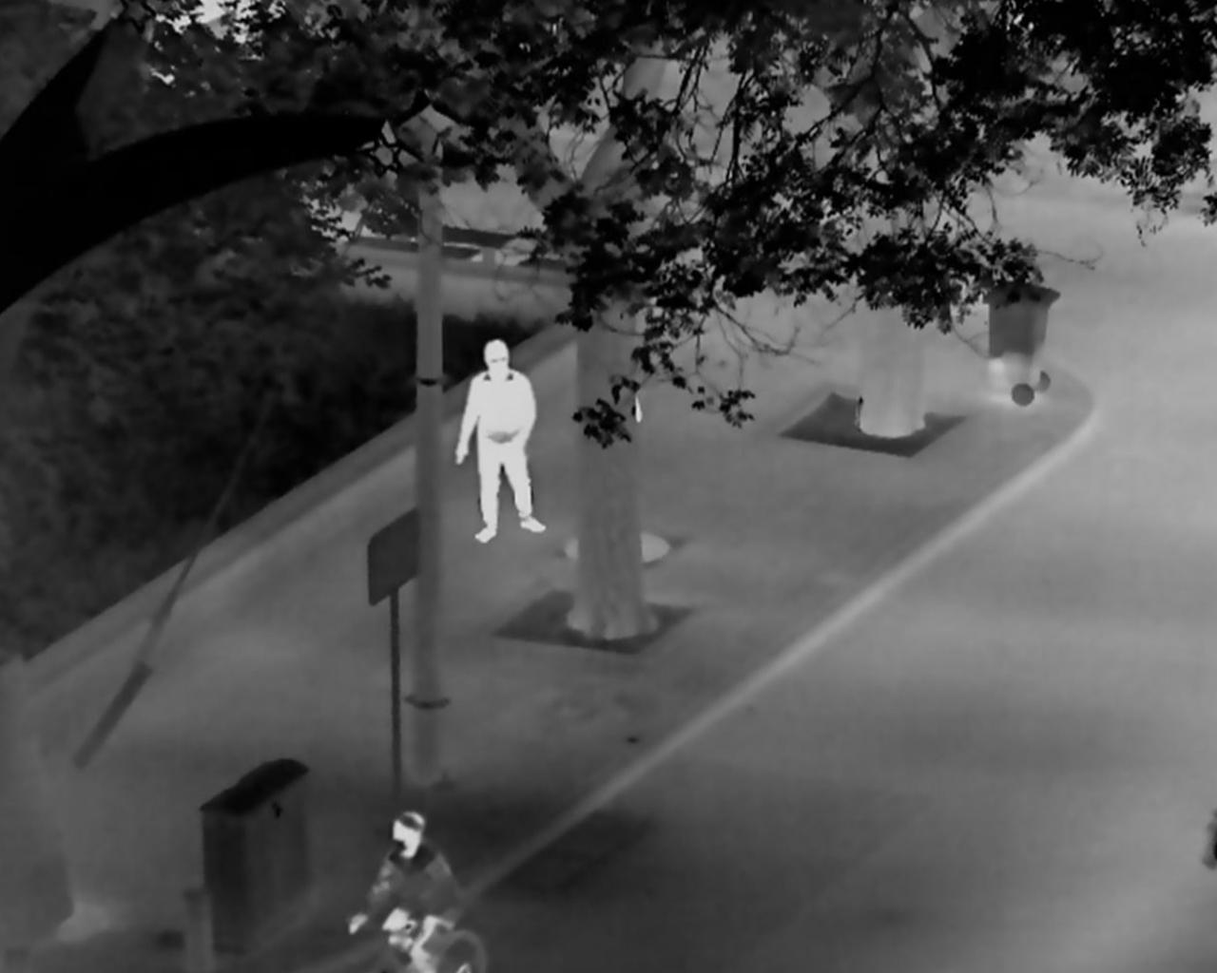person: (454, 338, 546, 543), (348, 809, 462, 973)
